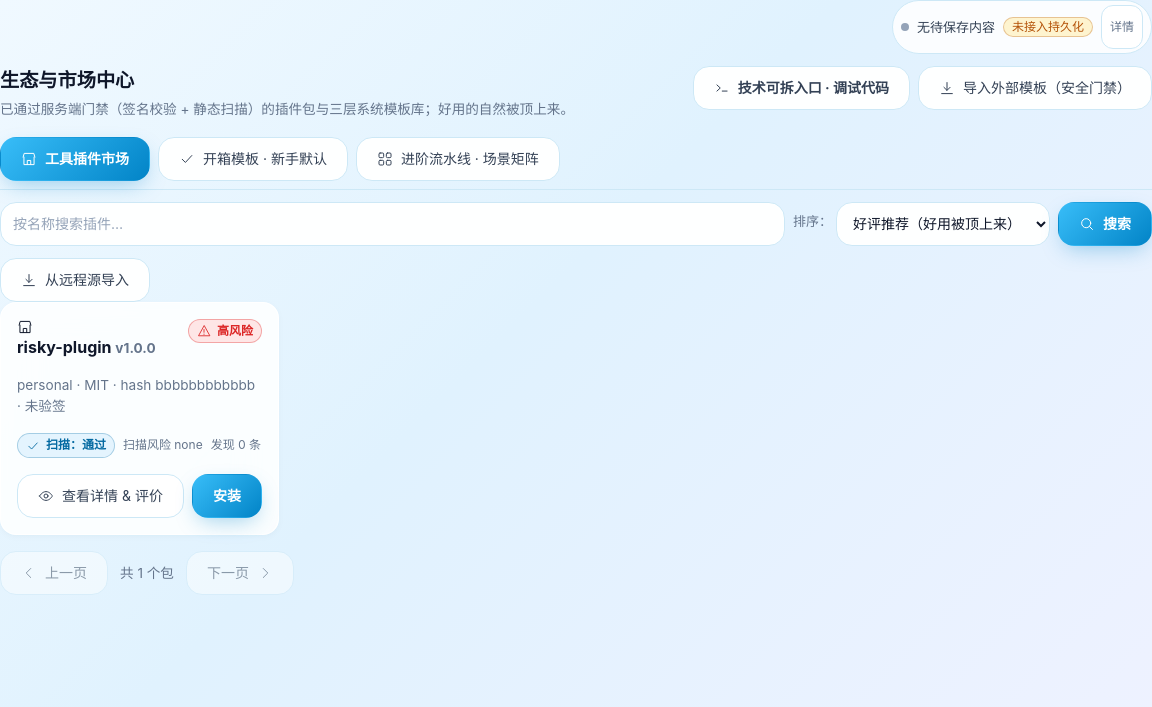
Test case: PluginMarketPage 无障碍（P12） › 安装按钮文字含包名语义（明确知道在装什么）
This screenshot has width=1152, height=707.
// 详情里打开后再次确认能力清单以文本呈现（安装前必读）
Click the button with test id "plugin-detail-sk-h" at point(100, 496), box x1=17 y1=474 x2=184 y2=518
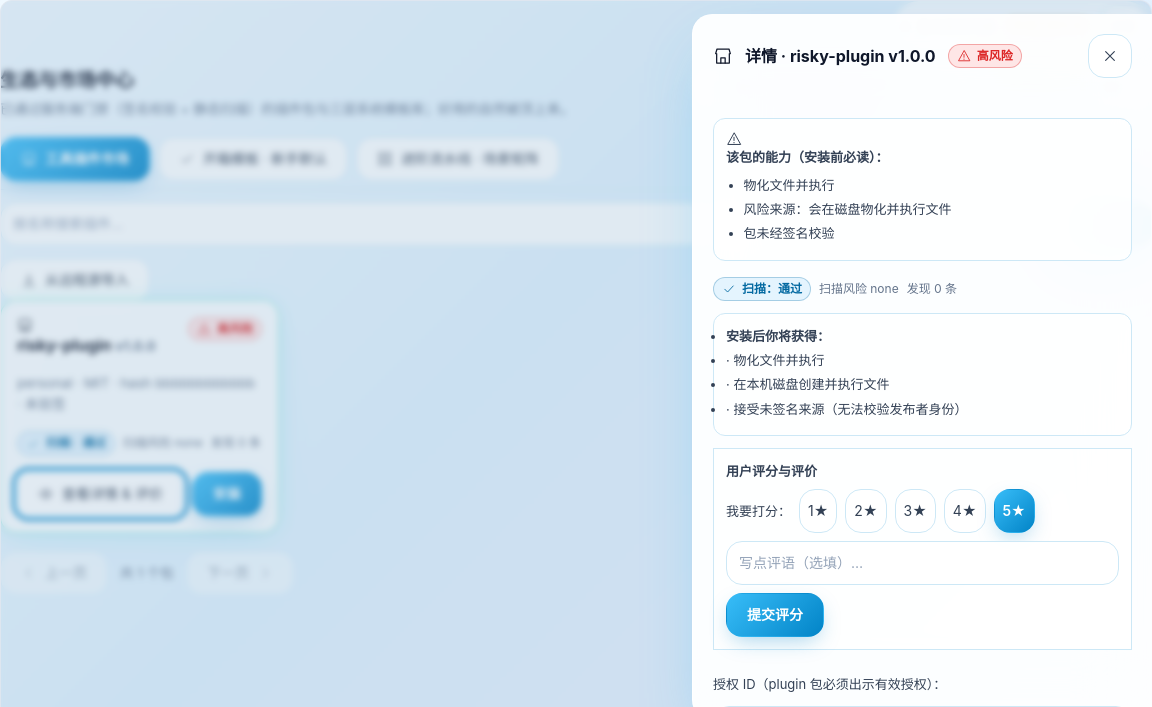
expect the element with test id "plugin-capabilities" shows "物化文件并执行": met, box x1=744 y1=177 x2=835 y2=193
